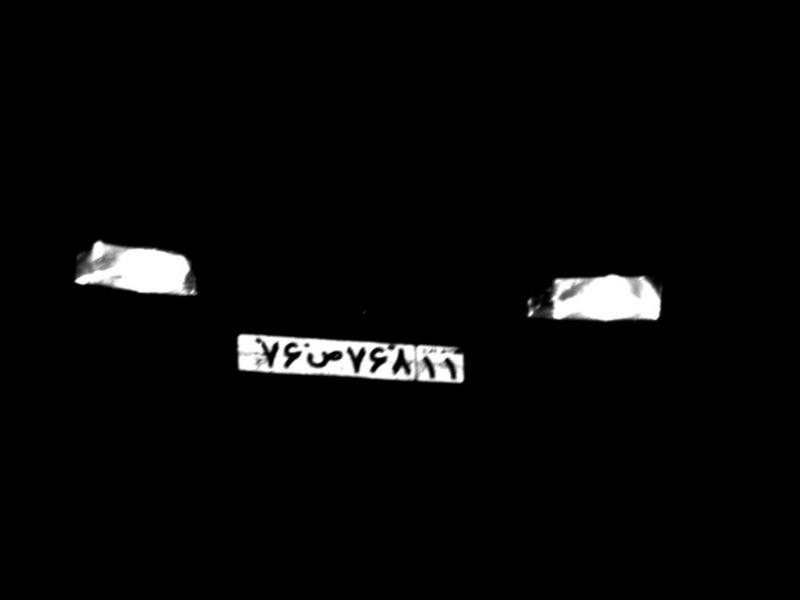Plate: (233, 328, 473, 389)
